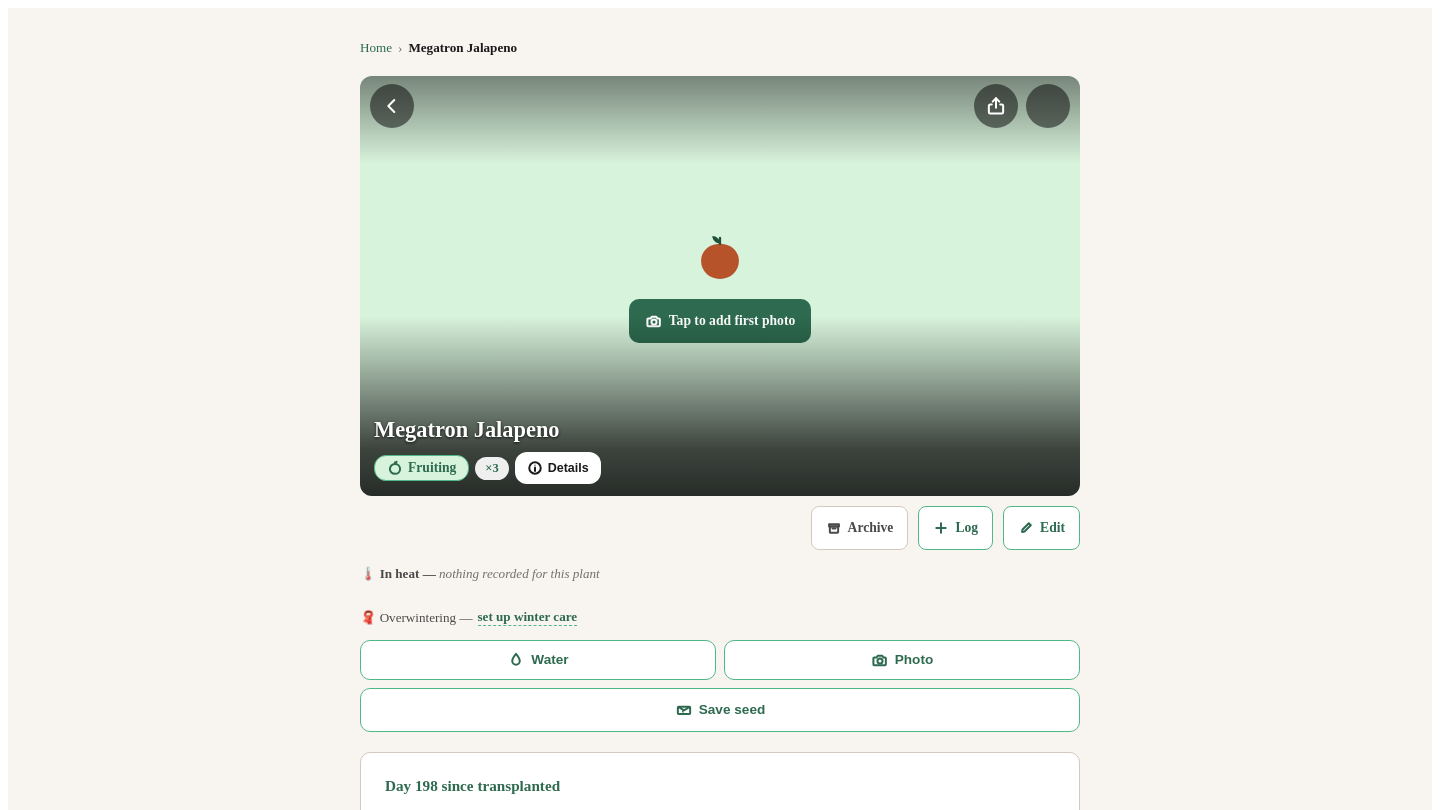
Test: PlantingDetail — V4-ARCHIVEINPLACE-001 archive in place › Archive PATCHes /archive {archived:true} and flips the page to the archived shape in place
This screenshot has width=1440, height=810.
expect the heading "Megatron Jalapeno" is shown: met, box x1=374 y1=417 x2=560 y2=442
Click the button with aria-label "Archive this planting". click: (860, 528)
box: x1=811 y1=506 x2=908 y2=550
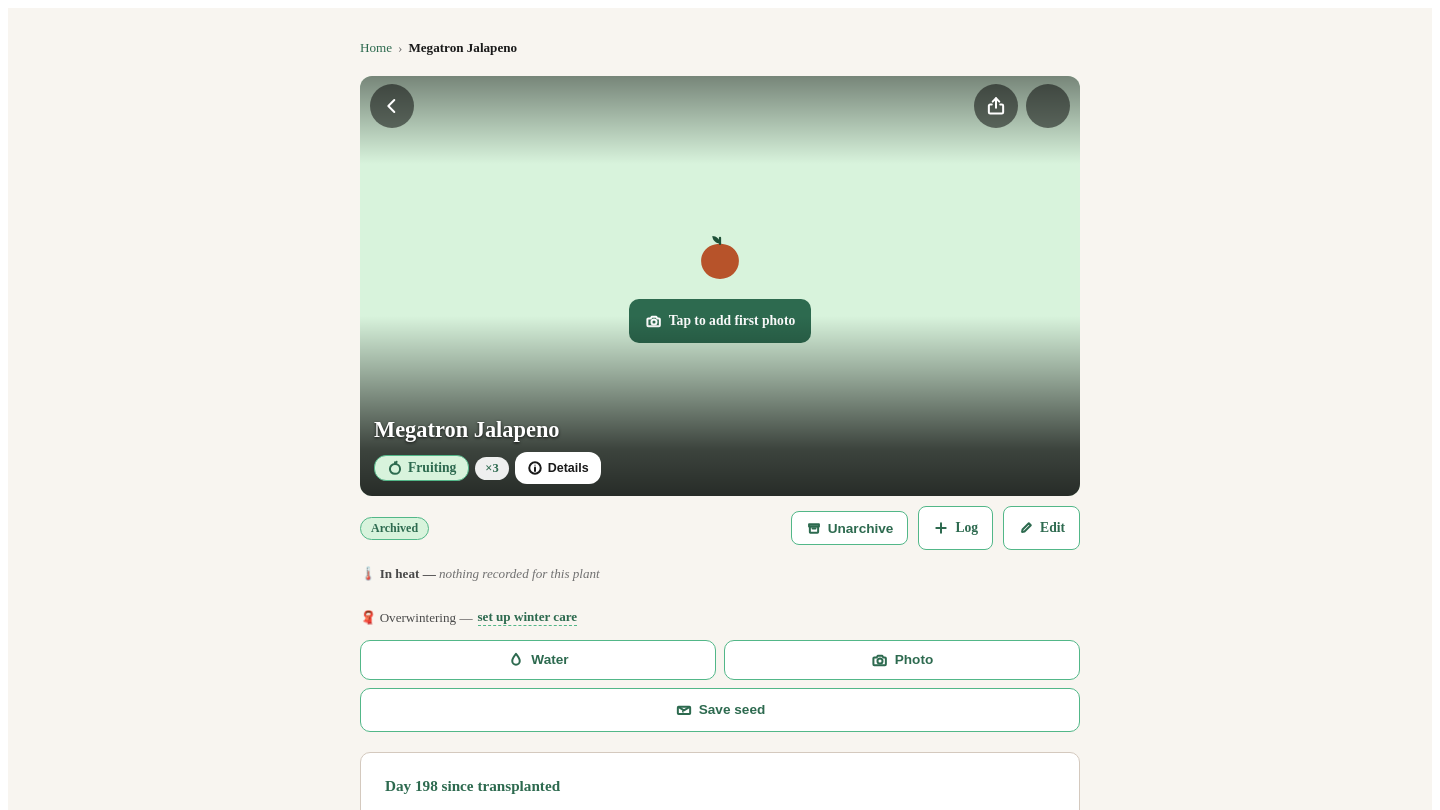
expect the heading "Megatron Jalapeno" is shown: met, box x1=374 y1=417 x2=560 y2=442
expect the text "Archived" is shown: met, box x1=360 y1=516 x2=429 y2=540
expect the button with aria-label "Unarchive this planting" is shown: met, box x1=791 y1=511 x2=908 y2=545
